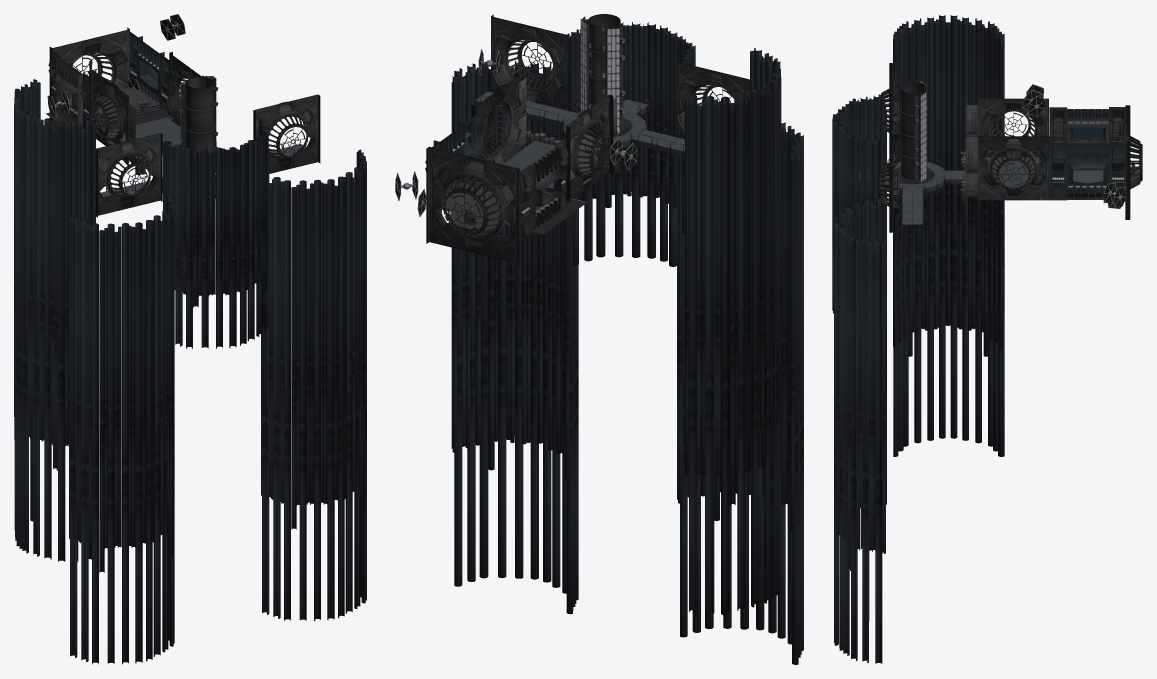
Rendered from env_empire_throneroom_pre.glb.
The picture shows the model from 3 angles, left to right: view 1: azimuth 30°, elevation 25°; view 2: azimuth 150°, elevation 25°; view 3: azimuth 270°, elevation 25°; orthographic projection. The views are drawn at different scales.
Visible parts, largest first — view 1: emp_throne_wall_01_mesh (1), emp_throne_wall_01_mesh (2), emp_throne_wall_01_mesh (3), emp_throne_wall_01_mesh, emp_throne_window_01_mesh (2), emp_throne_window_01_mesh (1), emp_throne_elevator_02_mesh, emp_throne_window_01_mesh, emp_throne_window_01_mesh (4), emp_throne_screen_01b_mesh, emp_throne_screen_mesh (1), emp_throne_window_01_mesh (3) (+4 smaller); view 2: emp_throne_wall_01_mesh (3), emp_throne_wall_01_mesh (2), emp_throne_wall_01_mesh (1), emp_throne_wall_01_mesh, emp_throne_window_01_mesh, emp_throne_window_01_mesh (1), emp_throne_elevator_02_mesh, emp_throne_floor_01_mesh, emp_throne_window_01_mesh (4), emp_throne_window_01_mesh (3), emp_throne_window_01_mesh (2), emp_throne_screen_01b_mesh (+5 smaller); view 3: emp_throne_wall_01_mesh (3), emp_throne_wall_01_mesh (2), emp_throne_wall_01_mesh, emp_throne_window_01_mesh (3), emp_throne_elevator_02_mesh, emp_throne_window_01_mesh (4), emp_throne_screen_mesh (1), emp_throne_floor_01_mesh, emp_throne_screen_01b_mesh, emp_throne_window_01_mesh, emp_throne_window_01_mesh (1), emp_wall_05_mesh (2) (+5 smaller).
Boxes of the visible parts, x1=… form: emp_throne_wall_01_mesh (1): x1=69, y1=195, x2=174, y2=664; emp_throne_wall_01_mesh (2): x1=261, y1=149, x2=366, y2=620; emp_throne_wall_01_mesh (3): x1=14, y1=79, x2=95, y2=561; emp_throne_wall_01_mesh: x1=163, y1=117, x2=268, y2=348; emp_throne_window_01_mesh (2): x1=96, y1=133, x2=162, y2=217; emp_throne_window_01_mesh (1): x1=253, y1=94, x2=320, y2=173; emp_throne_elevator_02_mesh: x1=179, y1=75, x2=218, y2=172; emp_throne_window_01_mesh: x1=49, y1=27, x2=129, y2=126; emp_throne_window_01_mesh (4): x1=89, y1=69, x2=129, y2=163; emp_throne_screen_01b_mesh: x1=55, y1=58, x2=82, y2=127; emp_throne_screen_mesh (1): x1=137, y1=36, x2=164, y2=108; emp_throne_window_01_mesh (3): x1=166, y1=52, x2=201, y2=126; emp_throne_wall_01_mesh (3): x1=685, y1=48, x2=781, y2=614; emp_throne_wall_01_mesh (2): x1=451, y1=61, x2=578, y2=614; emp_throne_wall_01_mesh (1): x1=677, y1=122, x2=803, y2=664; emp_throne_wall_01_mesh: x1=569, y1=22, x2=695, y2=266; emp_throne_window_01_mesh: x1=426, y1=146, x2=520, y2=265; emp_throne_window_01_mesh (1): x1=491, y1=14, x2=569, y2=110; emp_throne_elevator_02_mesh: x1=579, y1=14, x2=625, y2=133; emp_throne_floor_01_mesh: x1=475, y1=85, x2=684, y2=157; emp_throne_window_01_mesh (4): x1=566, y1=94, x2=613, y2=202; emp_throne_window_01_mesh (3): x1=471, y1=73, x2=522, y2=164; emp_throne_window_01_mesh (2): x1=676, y1=60, x2=749, y2=138; emp_throne_screen_01b_mesh: x1=530, y1=147, x2=561, y2=233; emp_throne_wall_01_mesh (3): x1=893, y1=15, x2=1004, y2=456; emp_throne_wall_01_mesh (2): x1=834, y1=197, x2=886, y2=663; emp_throne_wall_01_mesh: x1=832, y1=94, x2=885, y2=313; emp_throne_window_01_mesh (3): x1=978, y1=136, x2=1049, y2=200; emp_throne_elevator_02_mesh: x1=899, y1=80, x2=927, y2=181; emp_throne_window_01_mesh (4): x1=978, y1=98, x2=1048, y2=160; emp_throne_screen_mesh (1): x1=1067, y1=143, x2=1109, y2=197; emp_throne_floor_01_mesh: x1=859, y1=126, x2=965, y2=225; emp_throne_screen_01b_mesh: x1=1067, y1=109, x2=1108, y2=142; emp_throne_window_01_mesh: x1=1118, y1=105, x2=1142, y2=219; emp_throne_window_01_mesh (1): x1=879, y1=137, x2=899, y2=232; emp_wall_05_mesh (2): x1=1049, y1=143, x2=1067, y2=200.
Size of the model in its own units: 61.25 by 103 by 55.86.
Materials: 20 (20 with a texture image).
